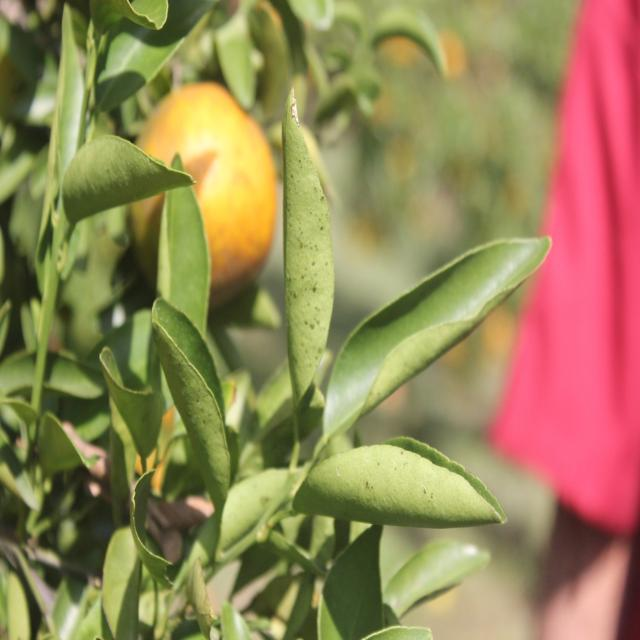melanose: (152, 306, 242, 510), (276, 92, 334, 402), (298, 439, 478, 532)
